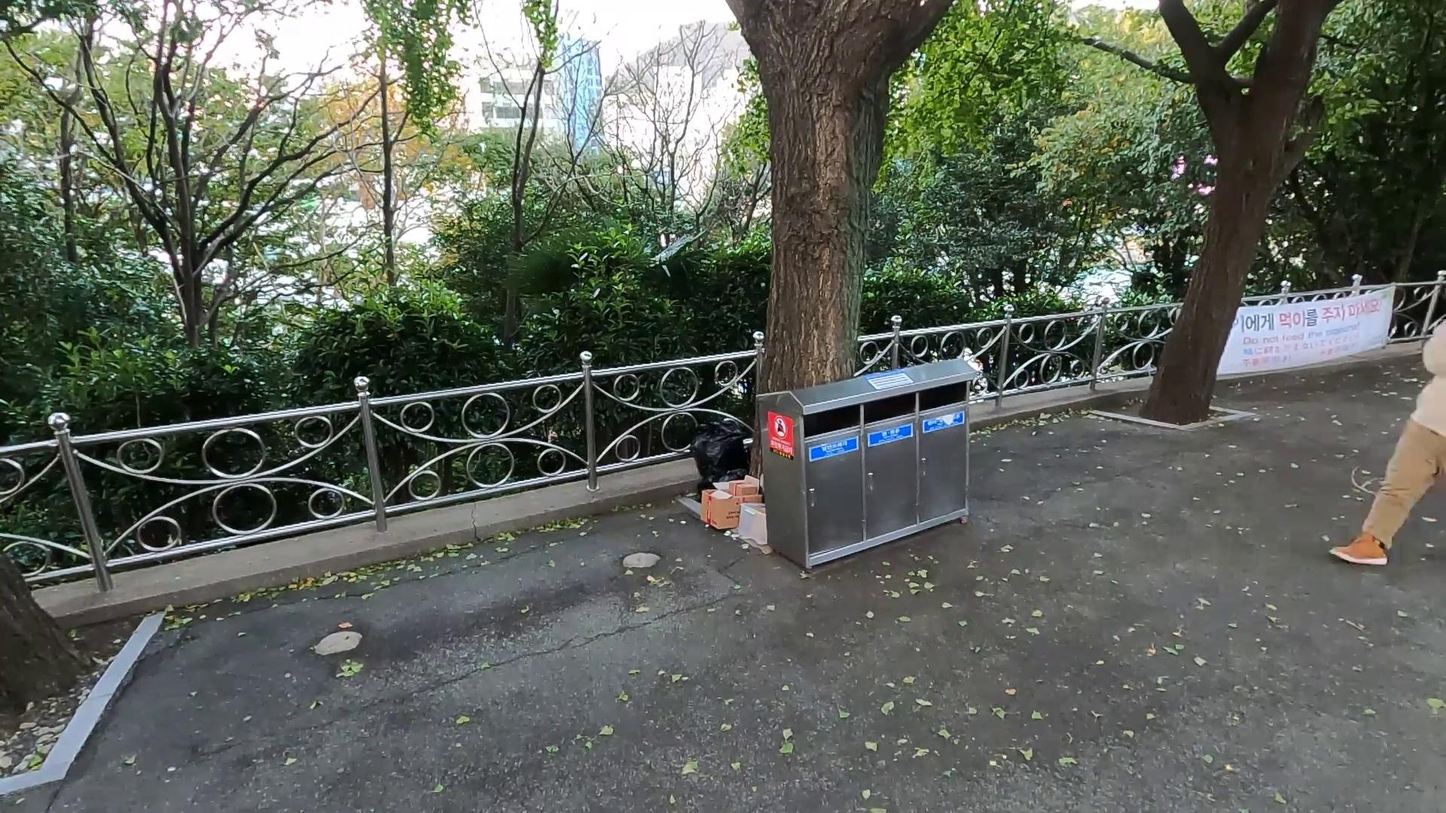trash: (684, 410, 751, 508), (694, 480, 765, 534), (692, 464, 757, 511), (730, 500, 767, 544), (722, 470, 763, 499)
